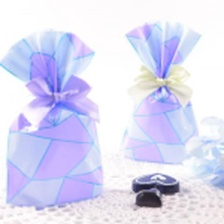snack: (0, 22, 107, 210), (109, 11, 212, 169)
